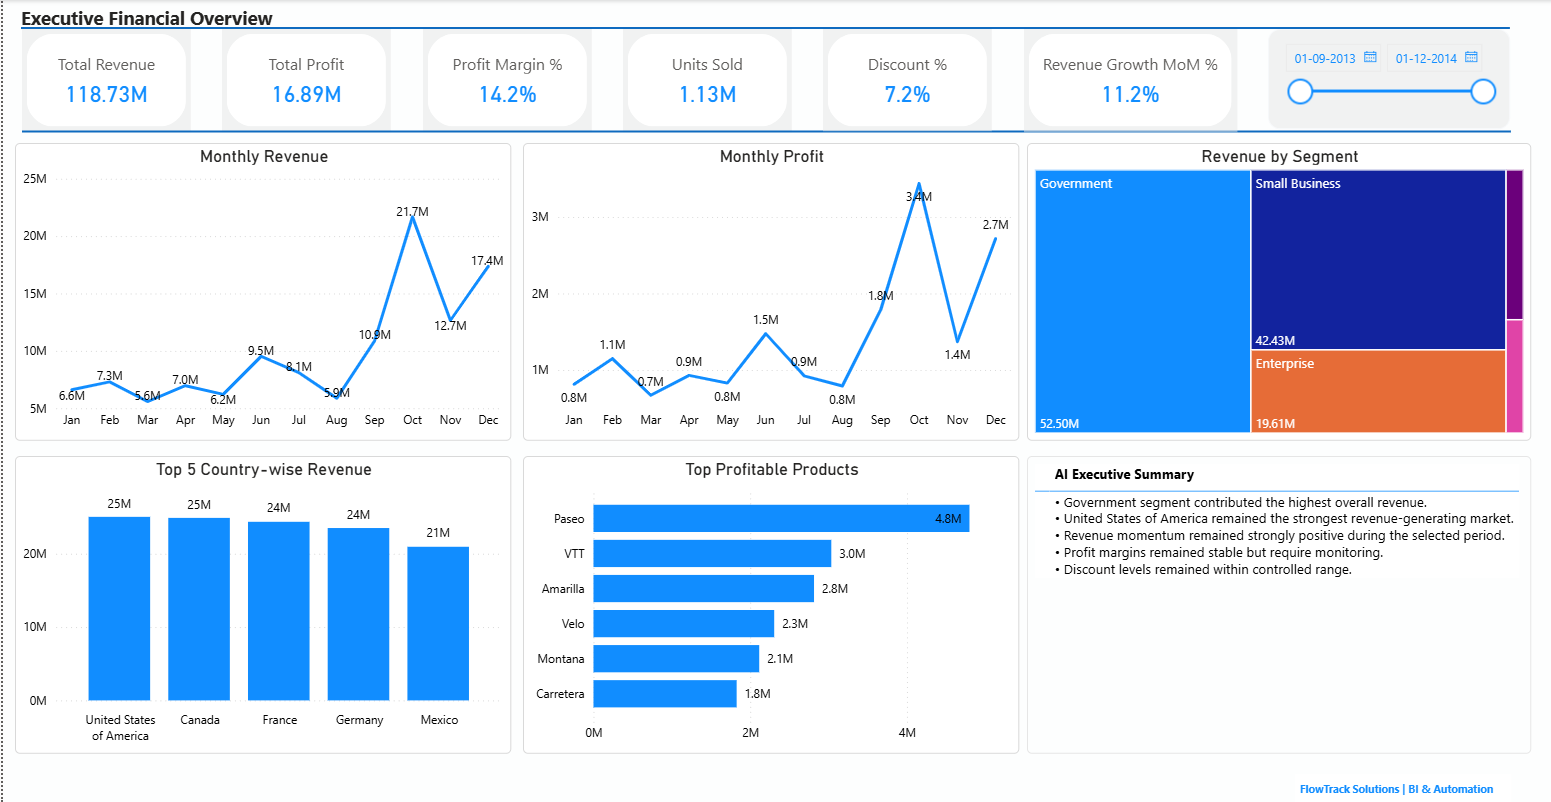

Layout of this report page (visuals, bound fields, positions):
{"tool":"powerbi","page":{"name":"Executive Financial Overview","canvas":[1559,810],"ordinal":1},"visuals":[{"type":"cardVisual","fields":{"Data":["financials.Total Revenue"]},"box":[19.1,28.2,170.3,104.8],"z":0},{"type":"cardVisual","fields":{"Data":["financials.Total Profit2"]},"box":[220.9,29.2,170.3,103.8],"z":1000},{"type":"cardVisual","fields":{"Data":["financials.Profit Margin2 %"]},"box":[422.7,29.2,170.3,103.8],"z":2000},{"type":"cardVisual","fields":{"Data":["financials.Units Sold_2"]},"box":[624.5,29.2,170.3,103.8],"z":3000},{"type":"slicer","fields":{"Values":["Calendar.Date"]},"box":[1274.8,28.8,243.9,101.2],"z":4000},{"type":"lineChart","title":"Monthly Revenue","fields":{"Category":["Calendar.Month"],"Y":["financials.Total Revenue"]},"box":[12.1,144.1,500,300.2],"z":5000},{"type":"lineChart","title":"Monthly Profit","fields":{"Category":["Calendar.Month"],"Y":["financials.Total Profit2"]},"box":[523.9,144.1,499.7,300.2],"z":6000},{"type":"clusteredColumnChart","title":"Top 5 Country-wise Revenue","fields":{"Y":["financials.Total Revenue"],"Category":["financials.Country"]},"box":[12.1,459.4,499.7,300.2],"z":7000},{"type":"treemap","title":"Revenue by Segment","fields":{"Group":["financials.Segment"],"Values":["financials.Total Revenue"]},"box":[1031.6,144.1,508,300.2],"z":8000},{"type":"textbox","box":[12.6,0,299.5,36.1],"z":9000},{"type":"shape","box":[18.1,18.1,1500,20.1],"z":10000},{"type":"shape","box":[19.1,120.9,1500,23.2],"z":11000},{"type":"textbox","box":[1301.6,779.8,217.6,30.2],"z":12000},{"type":"cardVisual","fields":{"Data":["financials.Revenue Growth %"]},"box":[1028.1,28.8,214.8,103.8],"z":13000},{"type":"clusteredBarChart","title":"Top Profitable Products","fields":{"Category":["financials.Product"],"Y":["financials.Total Profit2"]},"box":[523.9,459.4,499.7,300.2],"z":14000},{"type":"cardVisual","fields":{"Data":["financials.Discount %"]},"box":[826.3,29.2,170.3,103],"z":15000},{"type":"pivotTable","title":"AI Executive Summary ","fields":{"Values":["financials.AI Executive Summary"]},"box":[1031.6,459.4,508,300.2],"z":16000}]}

Visuals, with their boxes in screenshot pixels (x1, y1, x2, y2), scaled from the page's 1559x810 canvas onto the 1551x802 screenshot:
cardVisual - financials.Total Revenue: 19, 28, 188, 132
cardVisual - financials.Total Profit2: 220, 29, 389, 132
cardVisual - financials.Profit Margin2 %: 421, 29, 590, 132
cardVisual - financials.Units Sold_2: 621, 29, 791, 132
slicer - Calendar.Date: 1268, 29, 1511, 129
"Monthly Revenue" lineChart: 12, 143, 509, 440
"Monthly Profit" lineChart: 521, 143, 1018, 440
"Top 5 Country-wise Revenue" clusteredColumnChart: 12, 455, 509, 752
"Revenue by Segment" treemap: 1026, 143, 1532, 440
textbox: 13, 0, 310, 36
shape: 18, 18, 1510, 38
shape: 19, 120, 1511, 143
textbox: 1295, 772, 1511, 801
cardVisual - financials.Revenue Growth %: 1023, 29, 1237, 131
"Top Profitable Products" clusteredBarChart: 521, 455, 1018, 752
cardVisual - financials.Discount %: 822, 29, 991, 131
"AI Executive Summary " pivotTable: 1026, 455, 1532, 752
